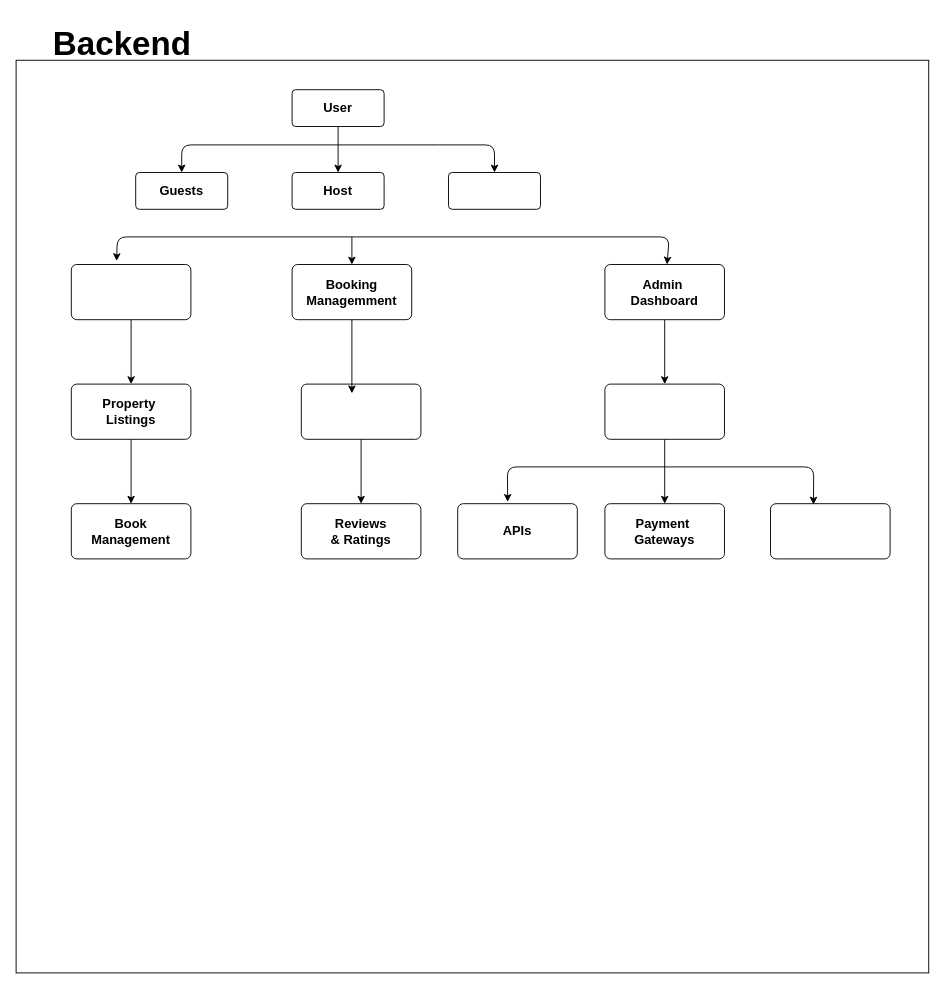
Some shapes in this 945 by 989 pixel diagram are drawn without their labels. The centre of each missing label's shape, as x and y in pixels:
"Admins" belongs at pixel 494 190.
"Database" belongs at pixel 664 411.
"Email Service" belongs at pixel 830 531.
"Payment Integration" belongs at pixel 360 411.
"User Management" belongs at pixel 130 292.
